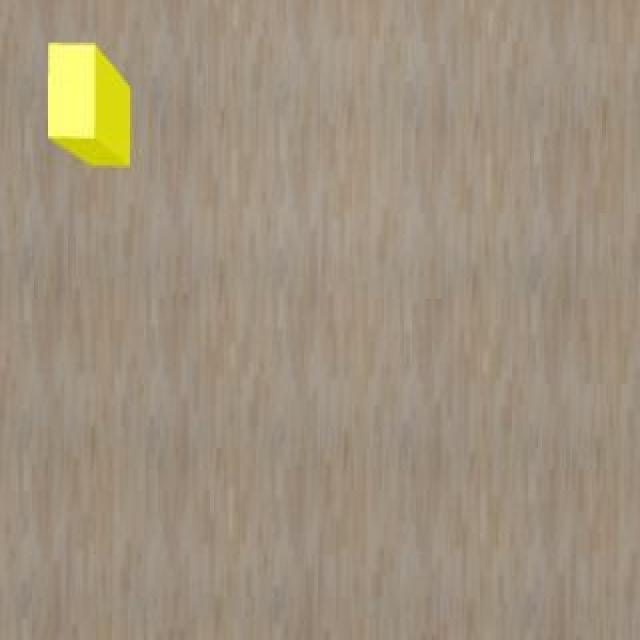cube-cAb5: (47, 38, 134, 172)
